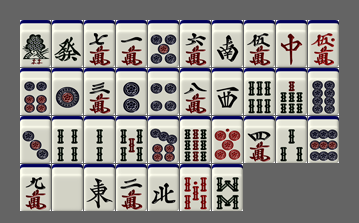0m: (308, 20, 339, 67)
0p: (212, 116, 243, 163)
0s: (180, 164, 211, 211)
1m: (116, 20, 147, 67)
1p: (52, 68, 83, 115)
1s: (20, 20, 51, 67)
1z: (84, 164, 115, 211)
2m: (116, 164, 147, 211)
2p: (116, 68, 147, 115)
2s: (84, 116, 115, 163)
2z: (212, 20, 243, 67)
3m: (84, 68, 115, 115)
3p: (20, 116, 51, 163)
3s: (276, 116, 307, 163)
3z: (212, 68, 243, 115)
4m: (244, 116, 275, 163)
4p: (148, 68, 179, 115)
4s: (52, 116, 83, 163)
4z: (148, 164, 179, 211)
5m: (244, 20, 275, 67)
5p: (148, 20, 179, 67)
5s: (116, 116, 147, 163)
5z: (52, 164, 83, 211)
6m: (180, 20, 211, 67)
6p: (20, 68, 51, 115)
6s: (244, 68, 275, 115)
6z: (52, 20, 83, 67)
7m: (84, 20, 115, 67)
7p: (148, 116, 179, 163)
7s: (276, 68, 307, 115)
7z: (276, 20, 307, 67)
8m: (180, 68, 211, 115)
8p: (308, 68, 339, 115)
8s: (212, 164, 243, 211)
9m: (20, 164, 51, 211)
9p: (308, 116, 339, 163)
9s: (180, 116, 211, 163)
